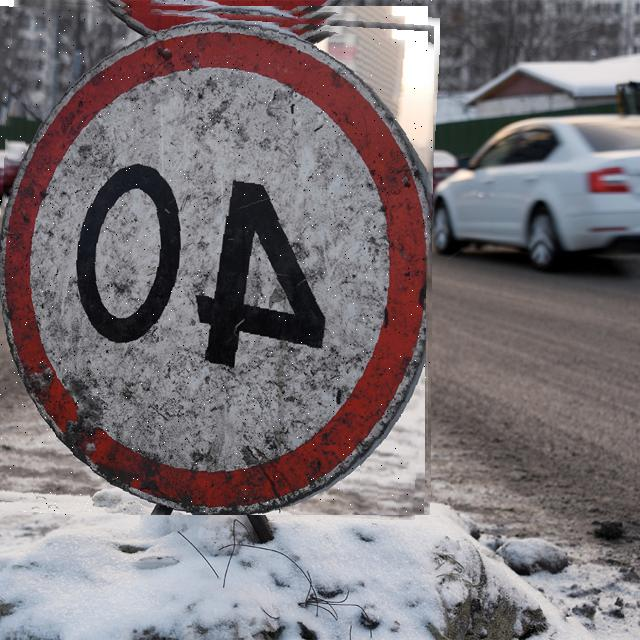speed limit 40: (0, 0, 434, 515)
